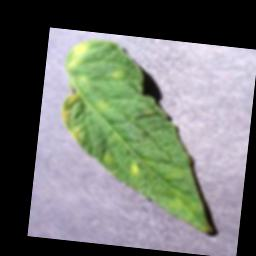Leaf_Mold: (58, 91, 87, 144), (65, 38, 89, 72), (130, 162, 140, 177)
